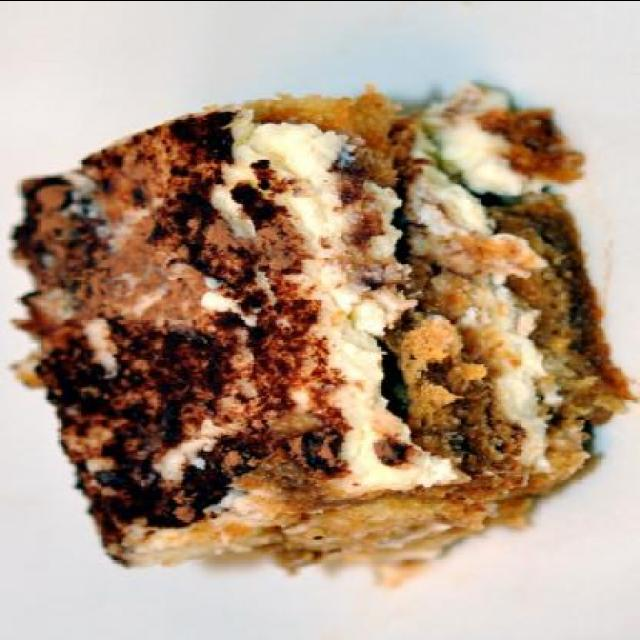Tiramisu: (4, 85, 618, 564)
